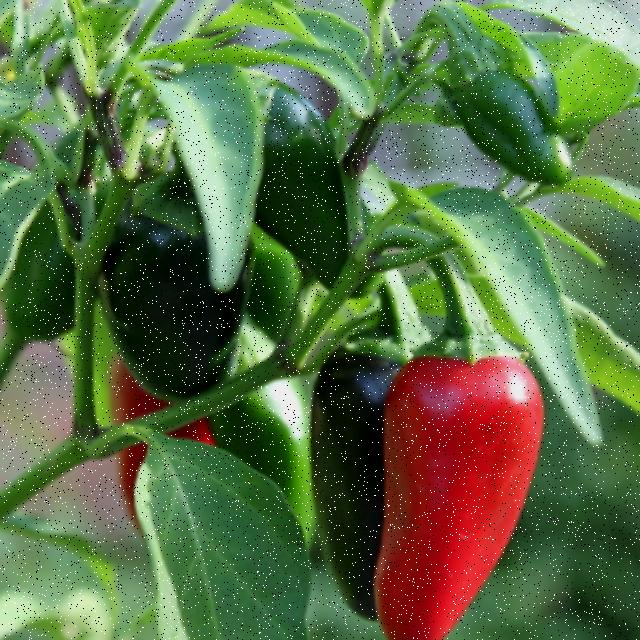Chili Pepper: (234, 77, 417, 316), (383, 349, 536, 634), (82, 164, 250, 421), (302, 328, 416, 624), (448, 35, 583, 202)
